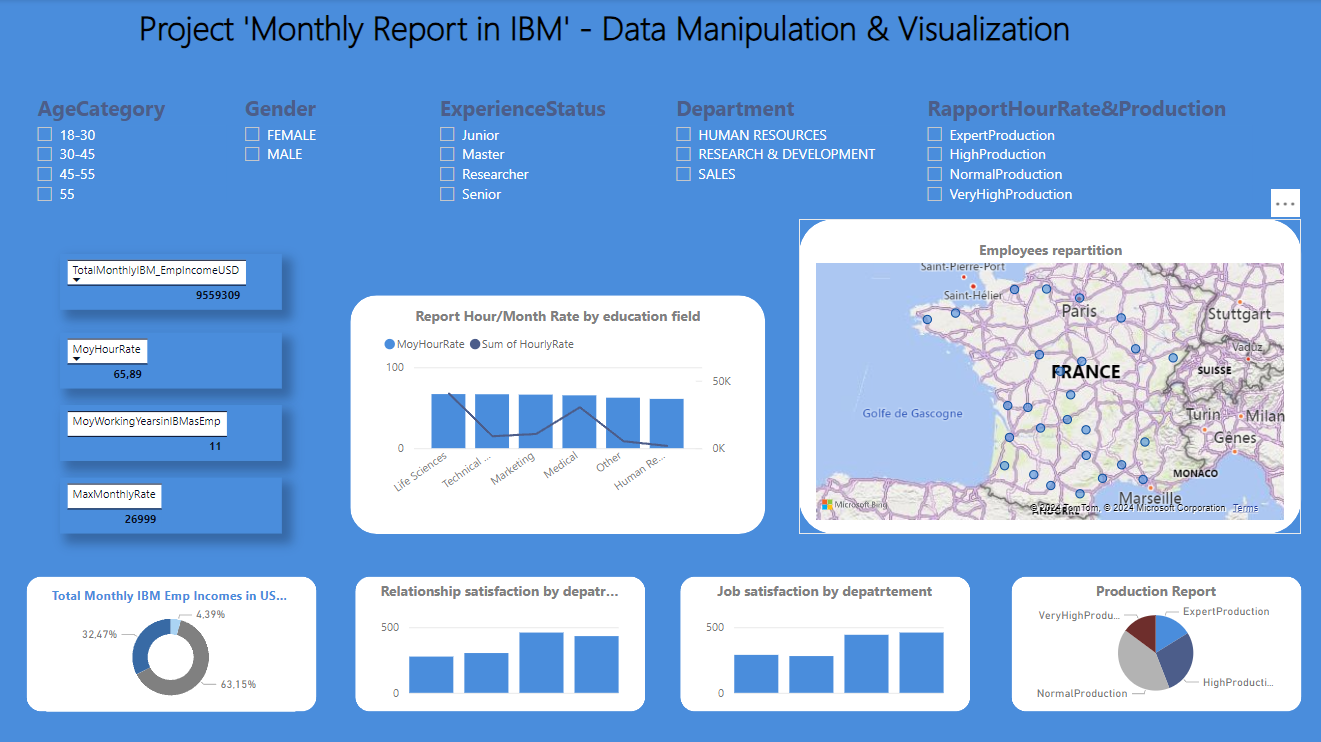

What the dashboard file says about the page in this screenshot:
{"tool":"powerbi","page":{"name":"Page 1","canvas":[1280,720],"ordinal":0},"visuals":[{"type":"shape","box":[976.9,557.2,279.8,130.3],"z":0},{"type":"shape","box":[657.3,557.2,279.8,130.3],"z":1000},{"type":"shape","box":[343.7,557.2,279.8,130.3],"z":2000},{"type":"shape","box":[26.5,557.2,279.8,130.3],"z":3000},{"type":"shape","box":[771.9,212.3,484.8,303.9],"z":4000},{"type":"shape","box":[338.9,285.8,400.4,230.4],"z":5000},{"type":"slicer","fields":{"Values":["IBM-Employees.AgeCategory"]},"box":[24.1,86.8,200.2,119.4],"z":6000},{"type":"slicer","fields":{"Values":["IBM-Employees.ExperienceStatus"]},"box":[412.5,86.8,227.9,119.4],"z":7000},{"type":"slicer","fields":{"Values":["IBM-Employees.RapportHourRate&Production"]},"box":[882.8,86.8,331.7,119.4],"z":8000},{"type":"textbox","box":[14.5,0,1139.7,98.9],"z":9000},{"type":"tableEx","fields":{"Values":["IBM-Employees.TotalMonthlyIBM_EmpIncome"]},"box":[59.2,246.4,213.3,53.7],"z":10000},{"type":"donutChart","title":"Total Monthly IBM Emp Incomes in USD by Department","fields":{"Y":["IBM-Employees.TotalMonthlyIBM_EmpIncome"],"Series":["IBM-Employees.Department"]},"box":[45.8,566.8,240,120.6],"z":11000},{"type":"tableEx","fields":{"Values":["IBM-Employees.MoyHourRate"]},"box":[59.2,322.1,213.3,53.7],"z":12000},{"type":"tableEx","fields":{"Values":["IBM-Employees.MoyWorkingYearsinIBMasEmp"]},"box":[59.2,392.3,213.3,53.7],"z":13000},{"type":"tableEx","fields":{"Values":["IBM-Employees.MaxMonthlyRate"]},"box":[59.2,462.5,213.3,53.7],"z":14000},{"type":"slicer","fields":{"Values":["IBM-Employees.Gender"]},"box":[224.3,86.8,182.1,84.4],"z":15000},{"type":"lineStackedColumnComboChart","title":"Job satisfaction by depatrtement","fields":{"Category":["IBM-Employees.JobSatisfaction"],"Y":["CountNonNull(IBM-Employees.Department)"]},"box":[676.6,562,240,120.6],"z":16000},{"type":"lineStackedColumnComboChart","title":"Relationship satisfaction by depatrtement","fields":{"Category":["IBM-Employees.RelationshipSatisfaction"],"Y":["CountNonNull(IBM-Employees.Department)"]},"box":[363,562,240,120.6],"z":17000},{"type":"lineClusteredColumnComboChart","title":"Report Hour/Month Rate by education field","fields":{"Category":["IBM-Employees.EducationField"],"Y":["IBM-Employees.MoyHourRate"],"Y2":["Sum(IBM-Employees.HourlyRate)"]},"box":[366.6,296.7,344.9,189.3],"z":18000},{"type":"pieChart","title":"Production Report","fields":{"Y":["CountNonNull(IBM-Employees.Department)"],"Series":["IBM-Employees.RapportHourRate&Production"]},"box":[996.2,562,240,120.6],"z":19000},{"type":"slicer","fields":{"Values":["IBM-Employees.Department"]},"box":[640.4,86.8,227.9,119.4],"z":20000},{"type":"map","title":"Employees repartition","fields":{"Category":["IBM-Employees.YearsAtCompany"]},"box":[784.4,232.2,461.1,274.4],"z":21000}]}

Visuals, with their boxes in screenshot pixels (x1, y1, x2, y2), scaled from the page's 1280x720 canvas onto the 1321x742 screenshot:
shape: pyautogui.locateOnScreen(1008, 574, 1297, 709)
shape: pyautogui.locateOnScreen(678, 574, 967, 709)
shape: pyautogui.locateOnScreen(355, 574, 643, 709)
shape: pyautogui.locateOnScreen(27, 574, 316, 709)
shape: pyautogui.locateOnScreen(797, 219, 1297, 532)
shape: pyautogui.locateOnScreen(350, 295, 763, 532)
slicer - IBM-Employees.AgeCategory: pyautogui.locateOnScreen(25, 89, 231, 213)
slicer - IBM-Employees.ExperienceStatus: pyautogui.locateOnScreen(426, 89, 661, 213)
slicer - IBM-Employees.RapportHourRate&Production: pyautogui.locateOnScreen(911, 89, 1253, 213)
textbox: pyautogui.locateOnScreen(15, 0, 1191, 102)
tableEx - IBM-Employees.TotalMonthlyIBM_EmpIncome: pyautogui.locateOnScreen(61, 254, 281, 309)
"Total Monthly IBM Emp Incomes in USD by Department" donutChart: pyautogui.locateOnScreen(47, 584, 295, 708)
tableEx - IBM-Employees.MoyHourRate: pyautogui.locateOnScreen(61, 332, 281, 387)
tableEx - IBM-Employees.MoyWorkingYearsinIBMasEmp: pyautogui.locateOnScreen(61, 404, 281, 460)
tableEx - IBM-Employees.MaxMonthlyRate: pyautogui.locateOnScreen(61, 477, 281, 532)
slicer - IBM-Employees.Gender: pyautogui.locateOnScreen(231, 89, 419, 176)
"Job satisfaction by depatrtement" lineStackedColumnComboChart: pyautogui.locateOnScreen(698, 579, 946, 703)
"Relationship satisfaction by depatrtement" lineStackedColumnComboChart: pyautogui.locateOnScreen(375, 579, 622, 703)
"Report Hour/Month Rate by education field" lineClusteredColumnComboChart: pyautogui.locateOnScreen(378, 306, 734, 501)
"Production Report" pieChart: pyautogui.locateOnScreen(1028, 579, 1276, 703)
slicer - IBM-Employees.Department: pyautogui.locateOnScreen(661, 89, 896, 213)
"Employees repartition" map: pyautogui.locateOnScreen(810, 239, 1285, 522)
